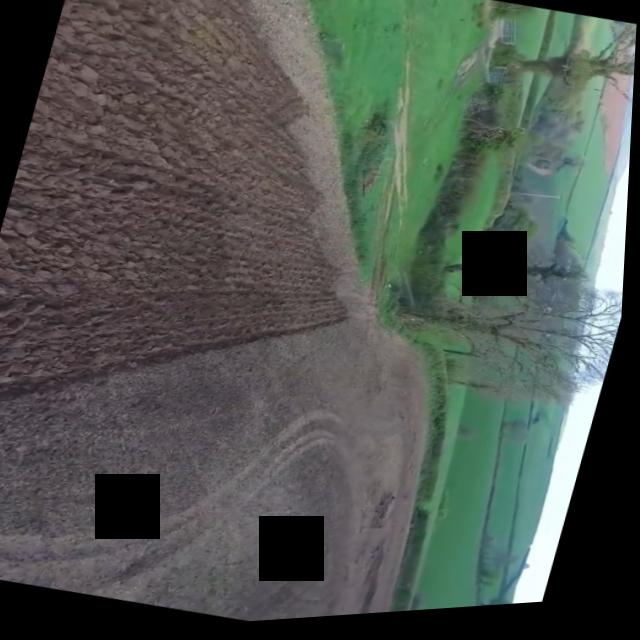Tree: (369, 239, 629, 431), (448, 0, 639, 134)
